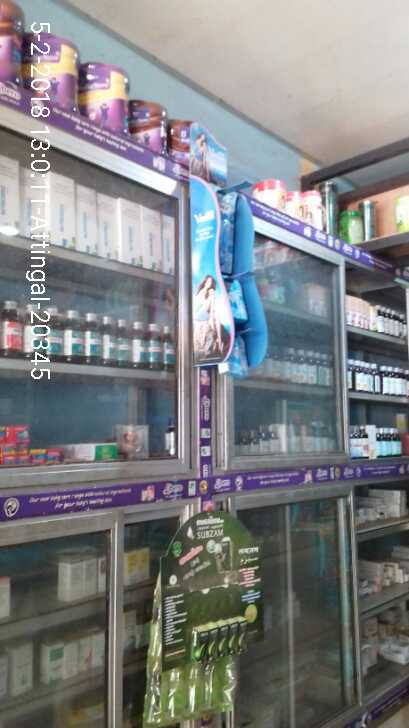reject: (200, 258, 289, 333)
